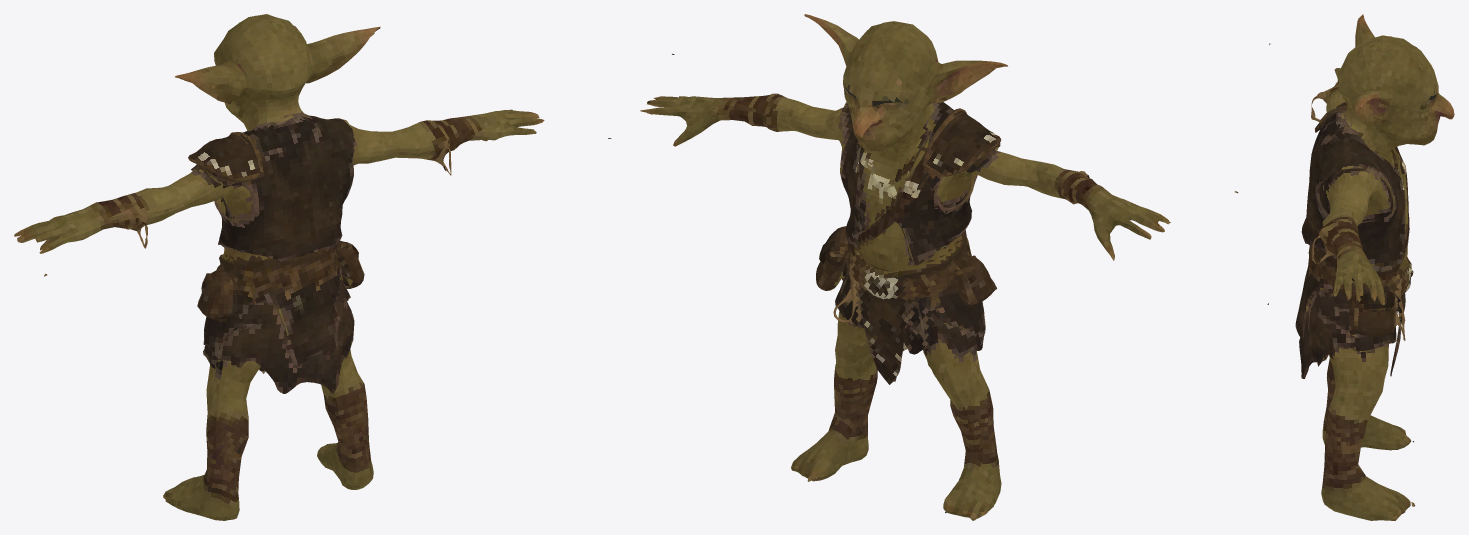
Rendered from Variant_C_QuadRetro.glb.
The picture shows the model from 3 angles, left to right: view 1: azimuth 30°, elevation 25°; view 2: azimuth 150°, elevation 25°; view 3: azimuth 270°, elevation 25°; orthographic projection. The views are drawn at different scales.
Visible parts, largest first — view 1: Variant_C_QuadRemesh; view 2: Variant_C_QuadRemesh; view 3: Variant_C_QuadRemesh.
Boxes of the visible parts, x1,y1,x2,y2 form: Variant_C_QuadRemesh: (14, 14, 611, 520); Variant_C_QuadRemesh: (640, 14, 1238, 520); Variant_C_QuadRemesh: (1267, 14, 1454, 520).
Bounding box in the file's own units: 2.53 × 1.99 × 0.7659.
1 material, 1 textured.
